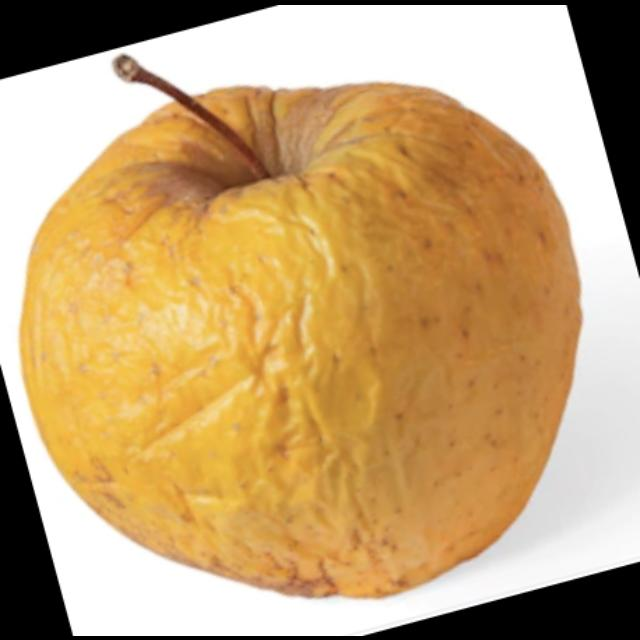Apel Tidak Segar: (14, 91, 594, 598)
